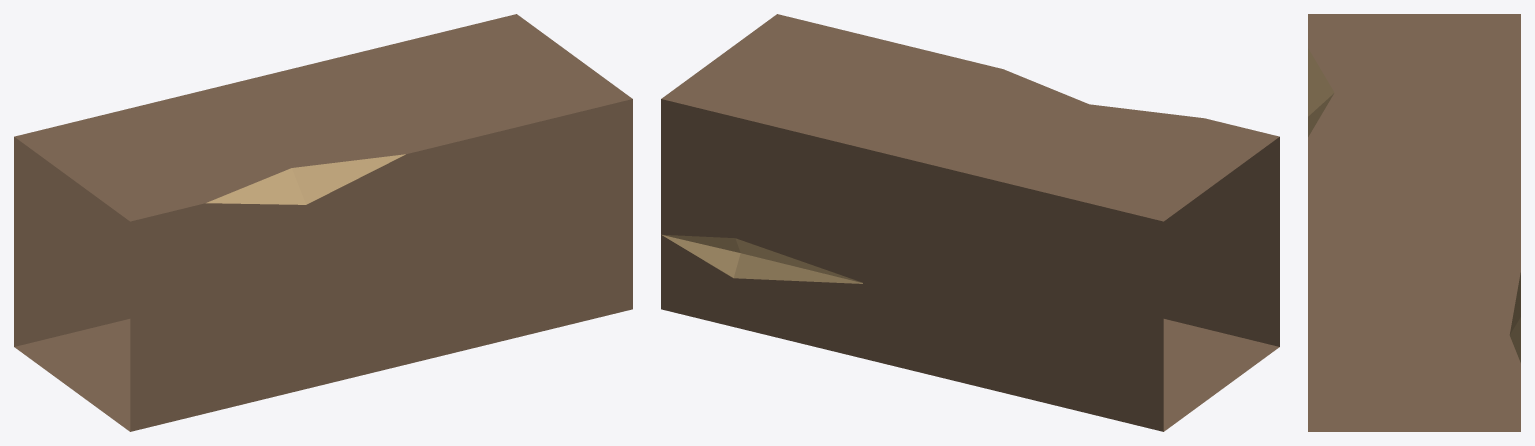
Rendered from Cave_Prop_Support_Ceiling_Beam_3.obj.
The picture shows the model from 3 angles, left to right: view 1: azimuth 30°, elevation 25°; view 2: azimuth 150°, elevation 25°; view 3: azimuth 270°, elevation 25°; orthographic projection. The views are drawn at different scales.
Visible parts, largest first — view 1: object1; view 2: object1; view 3: object1.
Boxes of the visible parts, box(x1,y1,x2,y2) form: object1: box(14, 14, 632, 431); object1: box(661, 14, 1279, 431); object1: box(1308, 14, 1520, 431).
Size of the model in its own units: 1 by 0.4 by 0.4.
